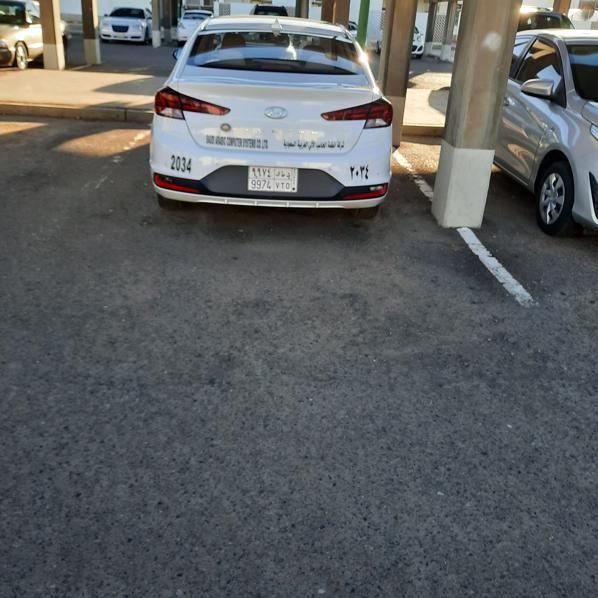numberplate: (248, 166, 297, 191)
